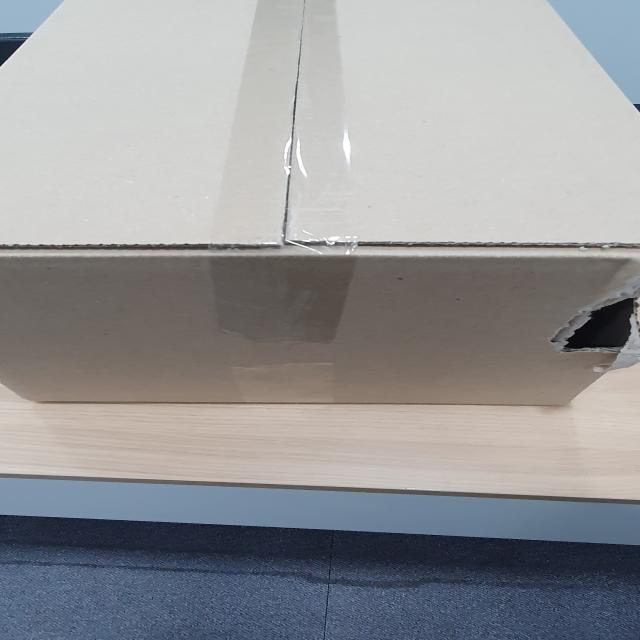hole: (556, 290, 640, 359)
